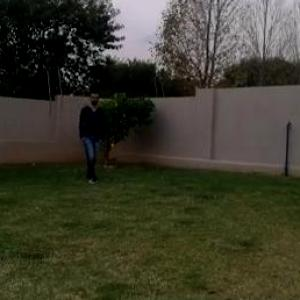follow: (79, 91, 101, 180)
